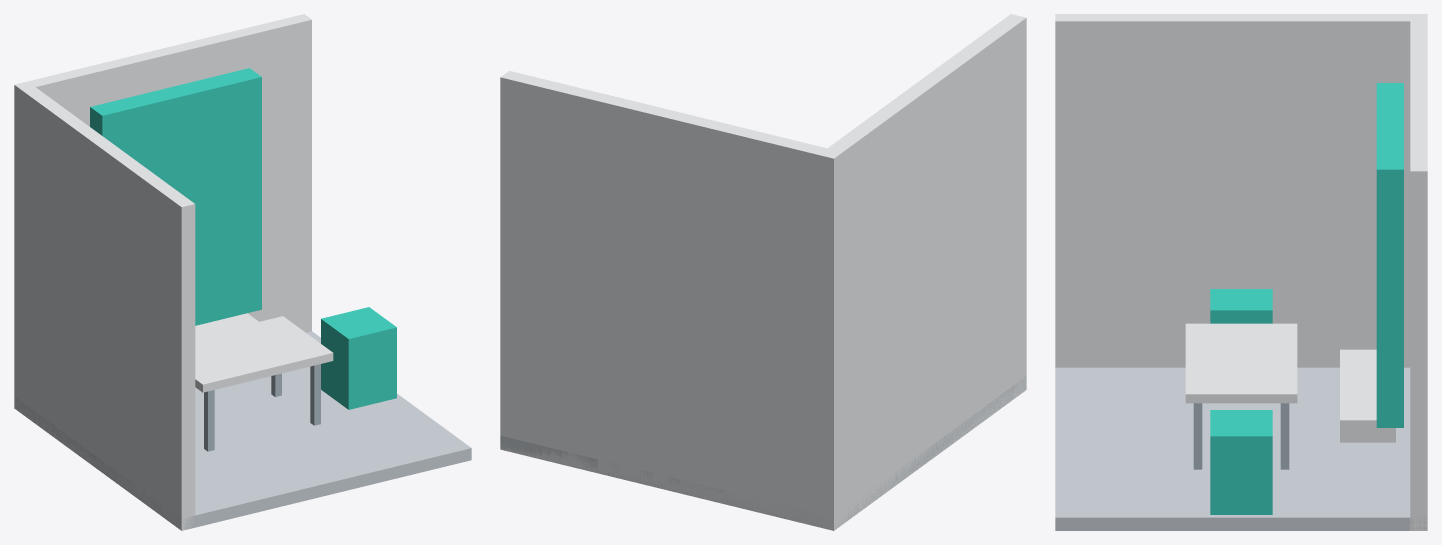
3 renders of one model, left to right at view 1: azimuth 30°, elevation 25°; view 2: azimuth 150°, elevation 25°; view 3: azimuth 270°, elevation 25°, orthographic. The views are drawn at different scales.
Parts seen in each view (by area): view 1: Exhibition Booth Concept; view 2: Exhibition Booth Concept; view 3: Exhibition Booth Concept.
Part boxes in pixels (left/top/right/bottom): Exhibition Booth Concept: left=14, top=14, right=471, bottom=530; Exhibition Booth Concept: left=500, top=14, right=1026, bottom=530; Exhibition Booth Concept: left=1055, top=14, right=1427, bottom=530.
Size of the model in its own units: 3 by 3.2 by 3.
